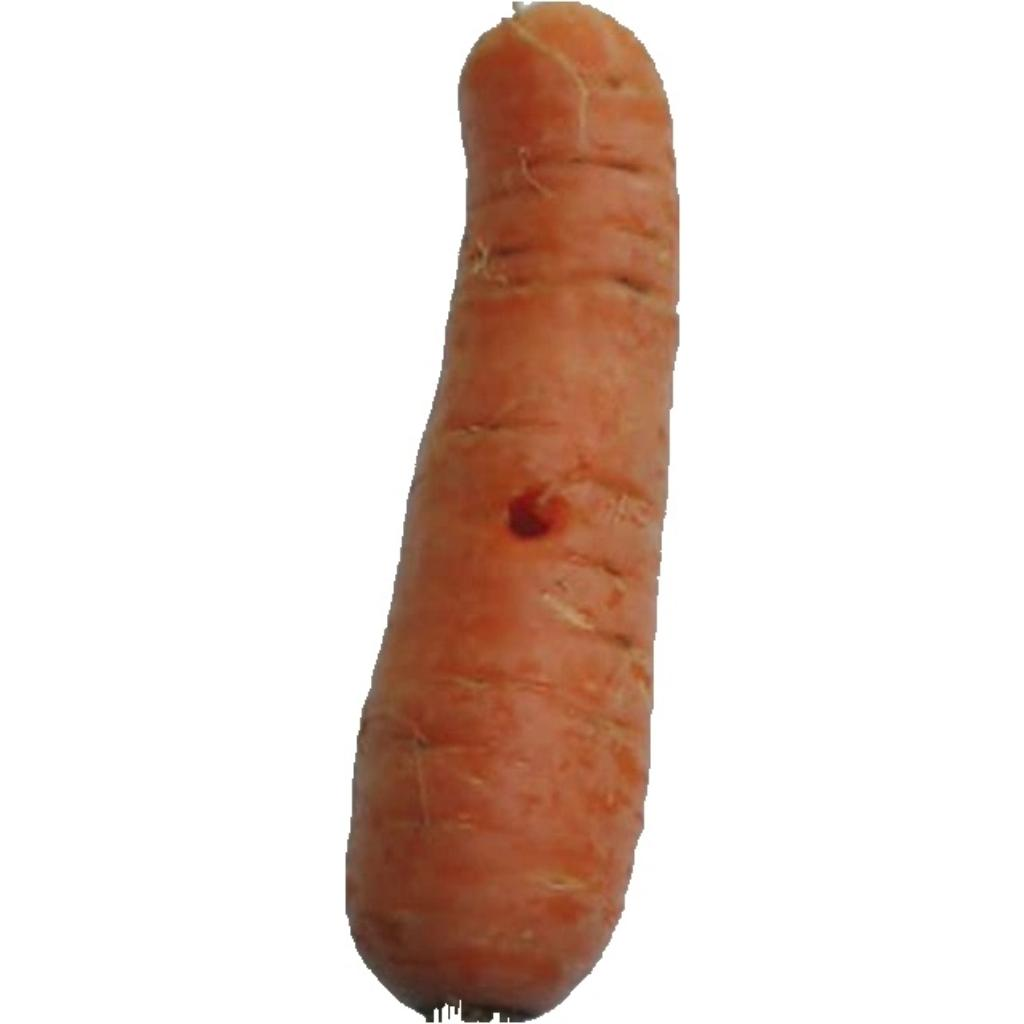carrot: (347, 4, 677, 1020)
